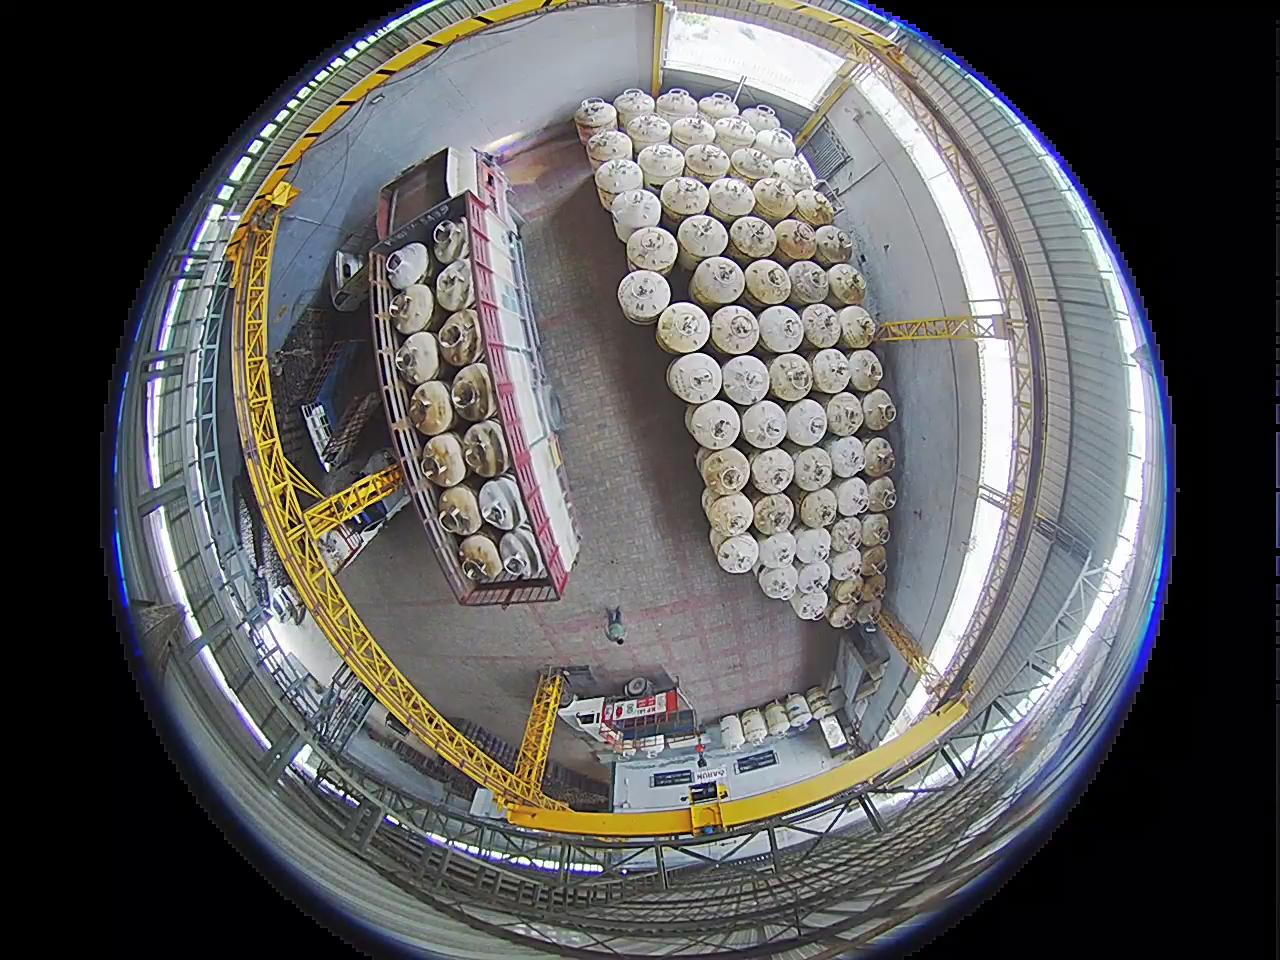cylinder: (617, 270, 675, 324), (666, 352, 722, 405), (690, 256, 745, 308), (687, 398, 741, 450), (656, 301, 710, 352), (709, 304, 762, 355), (719, 354, 770, 406), (420, 433, 469, 486), (740, 399, 790, 450), (677, 213, 728, 262), (699, 446, 750, 495), (611, 190, 659, 242), (407, 380, 454, 433), (756, 305, 806, 354), (395, 331, 442, 383), (436, 309, 480, 364), (625, 225, 675, 273), (744, 258, 794, 306), (433, 257, 475, 313), (749, 445, 796, 494), (384, 241, 429, 292), (767, 353, 813, 401), (659, 175, 708, 220), (637, 142, 686, 187), (707, 176, 756, 221), (389, 283, 434, 332), (728, 215, 777, 259), (595, 155, 644, 199), (785, 398, 829, 446), (706, 493, 754, 537), (773, 218, 819, 262), (790, 445, 834, 491), (752, 176, 798, 220), (787, 260, 831, 305), (585, 127, 631, 170), (683, 142, 731, 183), (751, 492, 795, 536), (800, 303, 842, 349), (810, 347, 852, 393), (669, 114, 717, 154), (836, 305, 877, 350), (824, 391, 865, 436), (826, 263, 868, 306), (574, 96, 616, 139), (716, 533, 760, 574), (655, 87, 699, 128), (828, 434, 868, 479), (814, 225, 855, 268), (798, 487, 839, 530), (614, 88, 656, 129), (730, 145, 775, 183), (832, 475, 872, 517), (847, 348, 885, 392), (432, 218, 468, 264), (793, 187, 835, 226), (713, 115, 757, 152), (757, 531, 798, 570), (793, 526, 832, 567), (861, 387, 898, 430), (770, 157, 813, 194), (753, 128, 797, 163), (697, 91, 738, 127), (315, 532, 351, 573), (758, 564, 798, 600), (789, 585, 827, 621), (861, 436, 896, 475), (740, 104, 780, 137), (795, 559, 830, 595), (829, 516, 863, 553), (828, 547, 863, 582), (865, 475, 897, 513), (860, 512, 891, 548), (827, 598, 861, 630), (740, 707, 768, 743), (718, 714, 745, 751), (785, 692, 814, 726), (831, 576, 863, 606), (859, 544, 888, 576), (807, 686, 835, 719), (709, 528, 736, 562), (764, 702, 791, 736), (695, 446, 722, 479), (859, 570, 886, 600), (855, 599, 882, 626)
truck: (360, 165, 601, 644), (495, 680, 863, 877), (296, 338, 380, 470)
